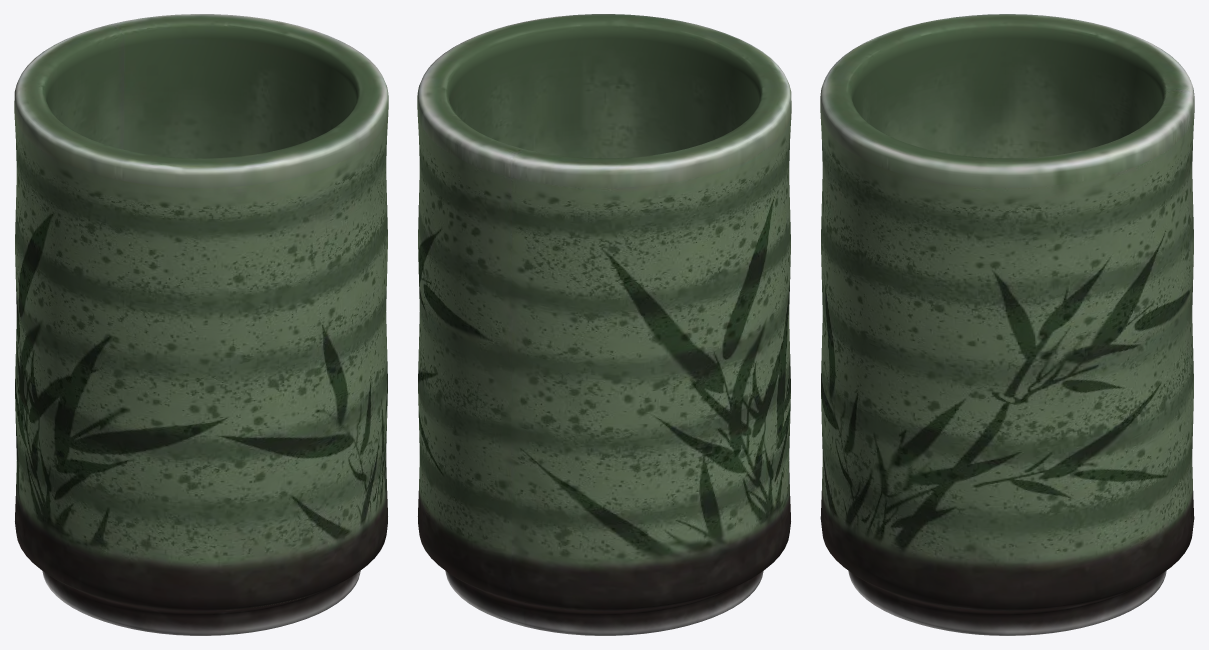
File: tea-cup.glb
3 views of the same model, side by side, from view 1: azimuth 30°, elevation 25°; view 2: azimuth 150°, elevation 25°; view 3: azimuth 270°, elevation 25° (orthographic).
Parts seen in each view (by area): view 1: Object_0; view 2: Object_0; view 3: Object_0.
Boxes of the visible parts, x1,y1,x2,y2 form: Object_0: [14, 14, 388, 635]; Object_0: [417, 14, 791, 635]; Object_0: [820, 14, 1194, 635].
Bounding box in the file's own units: 0.0494 × 0.07 × 0.0494.
1 material, 1 textured.
